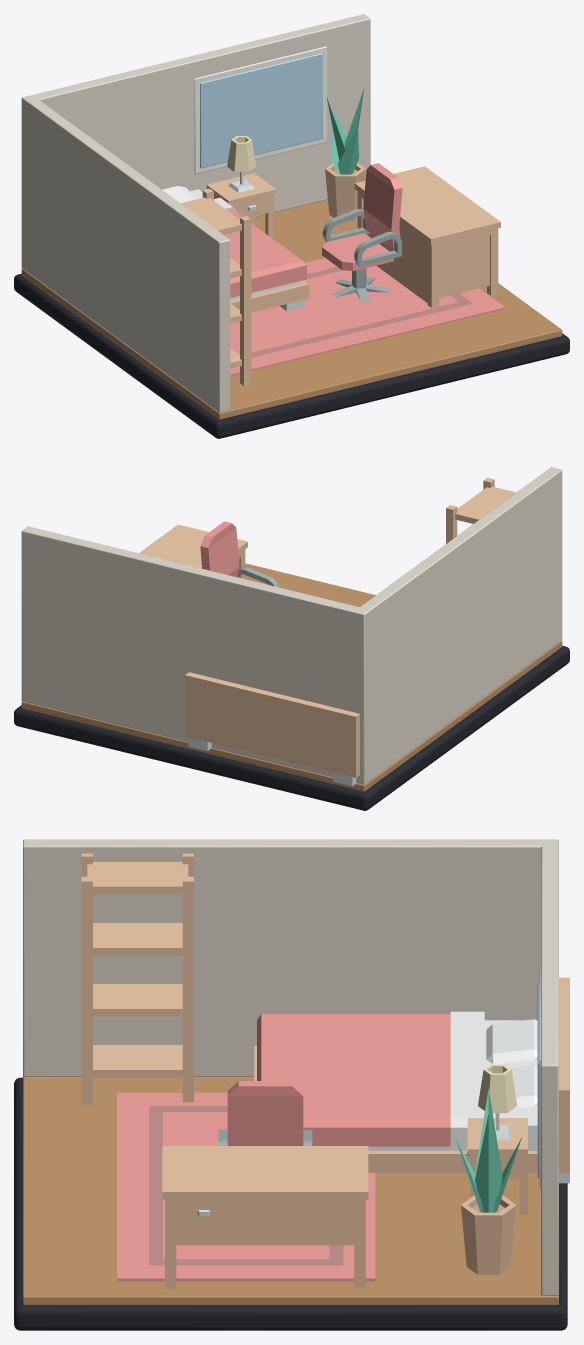
The model's file is room.glb.
3 views of the same model, one above another, from view 1: azimuth 30°, elevation 25°; view 2: azimuth 150°, elevation 25°; view 3: azimuth 270°, elevation 25° (orthographic). The views are drawn at different scales.
Parts seen in each view (by area): view 1: wall_left, wall_back, floor, rugRectangle(Clone), desk(Clone), base, window, chair, bookcaseOpen(Clone), cover, window_frame, cabinetBedDrawerTable(Clone) (+5 smaller); view 2: wall_back, wall_left, bedDouble(Clone), base, floor, chair, desk(Clone), bookcaseOpen(Clone); view 3: wall_left, floor, cover, desk(Clone), rugRectangle(Clone), bookcaseOpen(Clone), base, wall_back, bedDouble(Clone), chair, pottedPlant(Clone), plant (+5 smaller).
Part boxes in pixels (bbox=[...]): wall_left: bbox=[21, 95, 230, 412]; wall_back: bbox=[21, 14, 370, 271]; floor: bbox=[21, 199, 562, 419]; rugRectangle(Clone): bbox=[230, 258, 505, 376]; desk(Clone): bbox=[354, 166, 500, 307]; base: bbox=[14, 273, 569, 438]; window: bbox=[200, 53, 322, 168]; chair: bbox=[322, 163, 402, 271]; bookcaseOpen(Clone): bbox=[181, 188, 251, 386]; cover: bbox=[214, 197, 306, 297]; window_frame: bbox=[194, 46, 326, 174]; cabinetBedDrawerTable(Clone): bbox=[206, 173, 276, 238]; wall_back: bbox=[21, 526, 370, 784]; wall_left: bbox=[354, 467, 562, 783]; bedDouble(Clone): bbox=[185, 672, 359, 786]; base: bbox=[14, 645, 569, 810]; floor: bbox=[21, 563, 562, 791]; chair: bbox=[200, 521, 279, 587]; desk(Clone): bbox=[139, 524, 247, 578]; bookcaseOpen(Clone): bbox=[446, 477, 516, 543]; wall_left: bbox=[23, 839, 558, 1077]; floor: bbox=[23, 1076, 558, 1305]; cover: bbox=[257, 1011, 484, 1147]; desk(Clone): bbox=[162, 1146, 368, 1288]; rugRectangle(Clone): bbox=[117, 1092, 375, 1281]; bookcaseOpen(Clone): bbox=[81, 853, 193, 1105]; base: bbox=[14, 1077, 567, 1330]; wall_back: bbox=[541, 839, 558, 1295]; bedDouble(Clone): bbox=[254, 977, 569, 1183]; chair: bbox=[218, 1081, 312, 1145]; pottedPlant(Clone): bbox=[461, 1195, 516, 1274]; plant: bbox=[455, 1089, 521, 1212].
Size of the model in its own units: 4.34 by 2.28 by 4.36.
